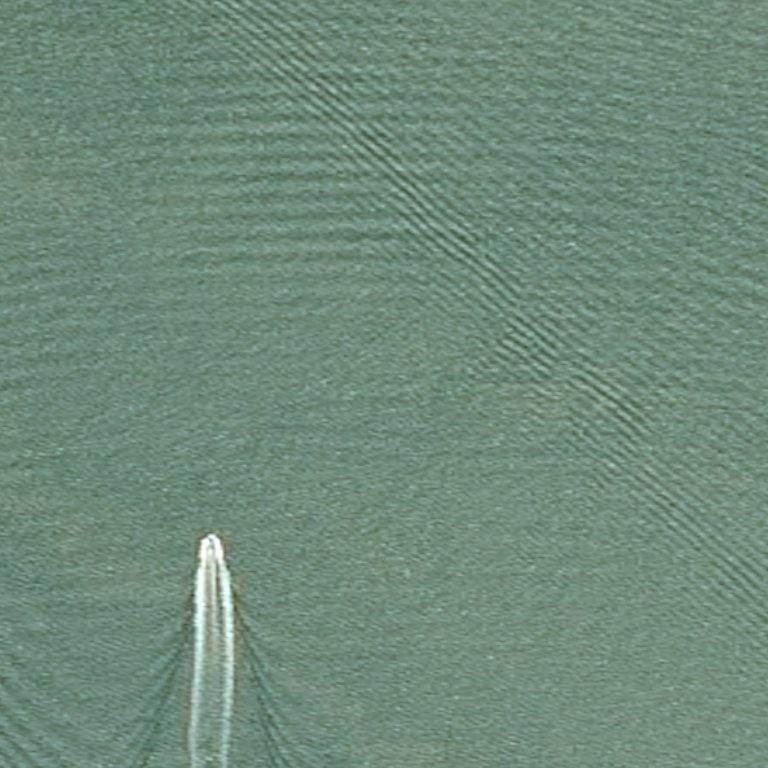ship: (201, 527, 222, 556), (208, 536, 212, 540), (51, 542, 56, 545), (214, 557, 218, 560)
